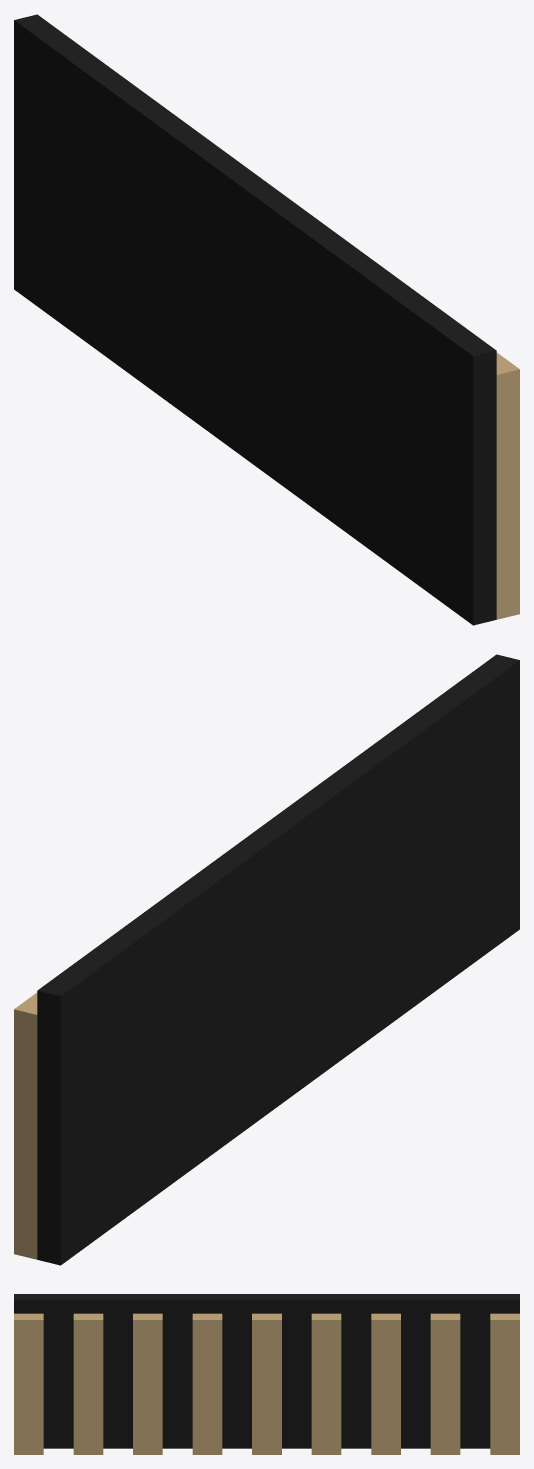
Rendered from light_tactical_vehicle_grille.glb.
The picture shows the model from 3 angles, top to bottom: view 1: azimuth 30°, elevation 25°; view 2: azimuth 150°, elevation 25°; view 3: azimuth 270°, elevation 25°; orthographic projection. The views are drawn at different scales.
Parts seen in each view (by area): view 1: body:compound; view 2: body:compound; view 3: body:compound.
Boxes of the visible parts, box(x1,y1,x2,y2) form: body:compound: box(14, 14, 519, 625); body:compound: box(14, 654, 519, 1265); body:compound: box(14, 1294, 519, 1454).
Size of the model in its own units: 0.0625 by 0.3438 by 1.06.
